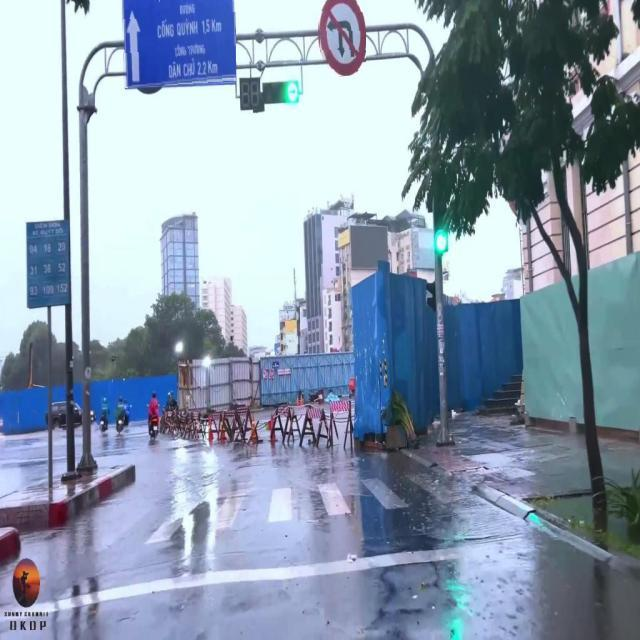124c-cam-re-trai-va-cam-quay-dau-xe: (318, 0, 370, 79)
